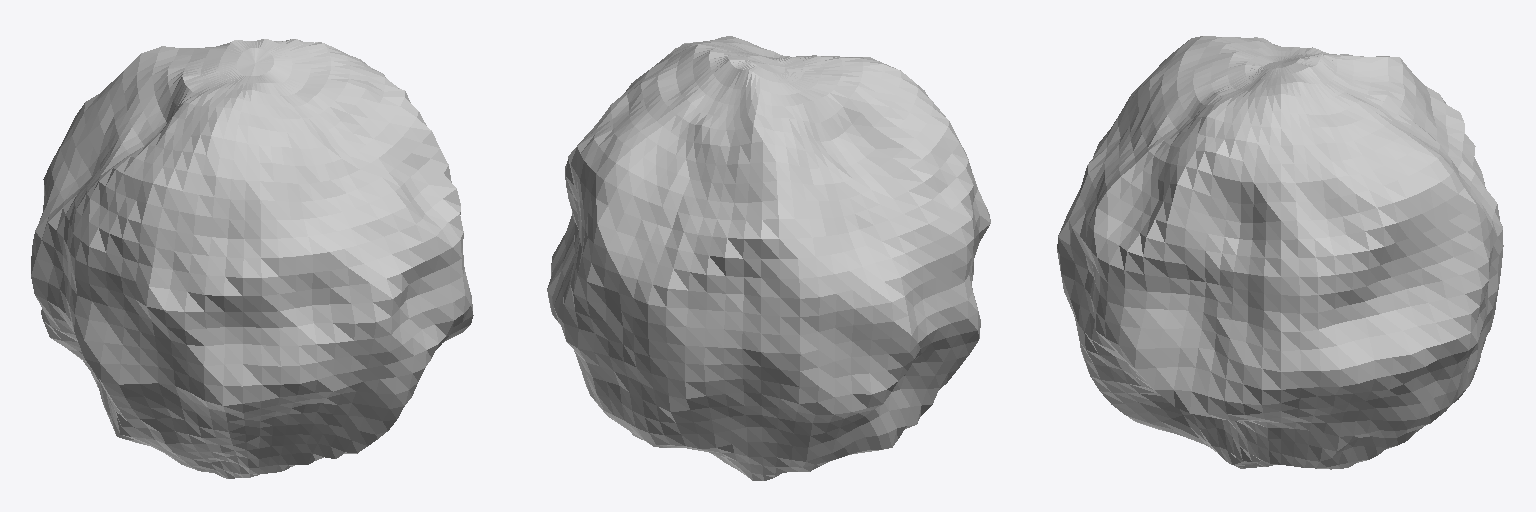
File: sable_R.obj
The picture shows the model from 3 angles: view 1: azimuth 30°, elevation 25°; view 2: azimuth 150°, elevation 25°; view 3: azimuth 270°, elevation 25°; orthographic projection.
Visible parts, largest first — view 1: Terrain.1; view 2: Terrain.1; view 3: Terrain.1.
Boxes of the visible parts, x1,y1,x2,y2 form: Terrain.1: [31, 39, 473, 478]; Terrain.1: [547, 36, 990, 480]; Terrain.1: [1057, 36, 1503, 469].
Bounding box in the file's own units: 75.91 × 76.31 × 76.89.